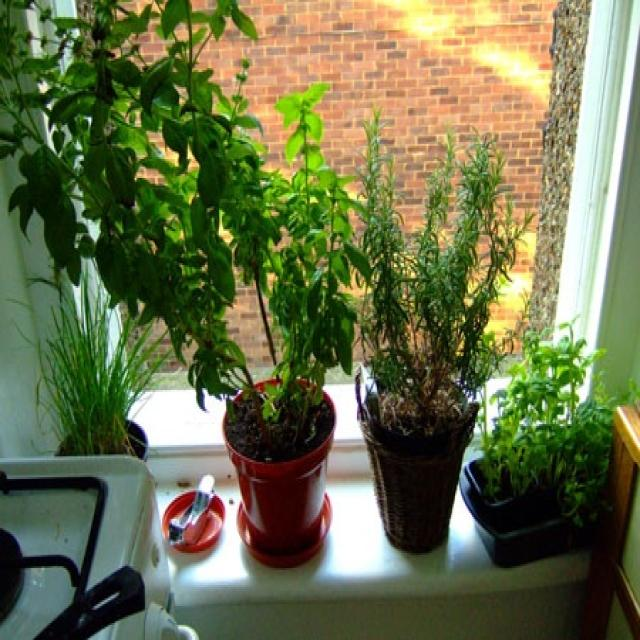pottedplant: (341, 118, 536, 558), (213, 86, 362, 567), (469, 321, 630, 563), (35, 293, 153, 471)
